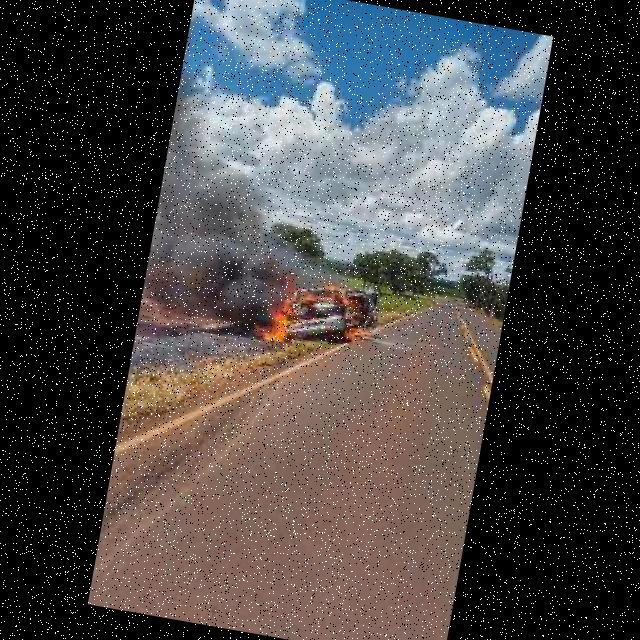Fire: (258, 294, 301, 344), (304, 275, 367, 309), (346, 323, 370, 343)
Smoke: (132, 144, 323, 353)
